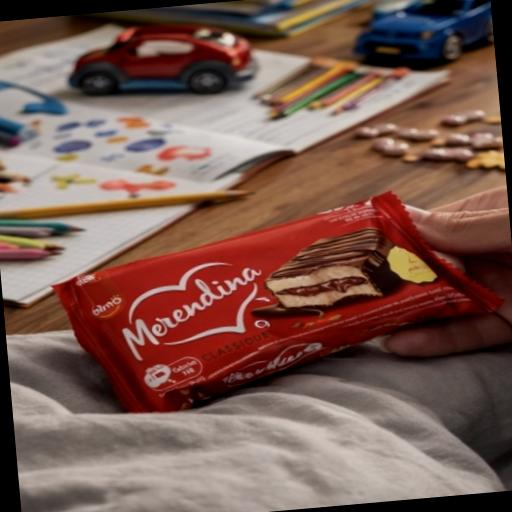merendina: (37, 171, 512, 417)
